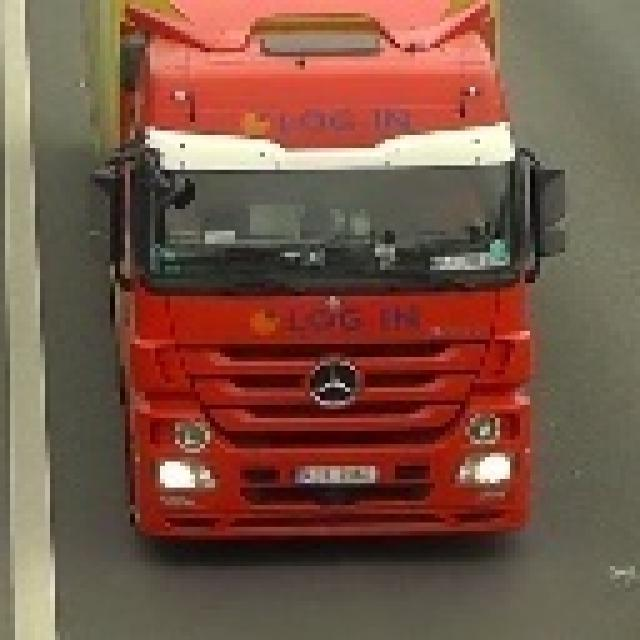truck: (120, 0, 570, 549)
